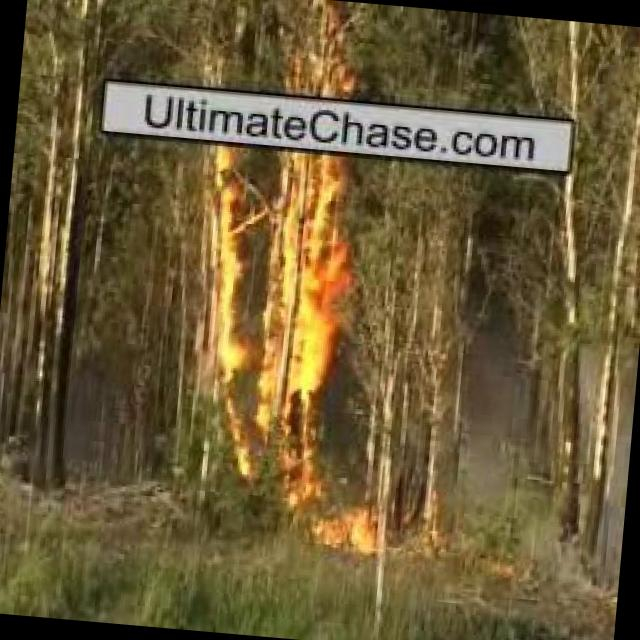Fire: (186, 145, 382, 491), (272, 498, 380, 554), (297, 13, 353, 98)
